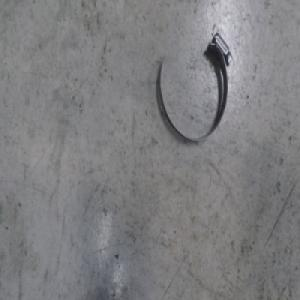AdjustableClamp: (157, 27, 233, 148)
